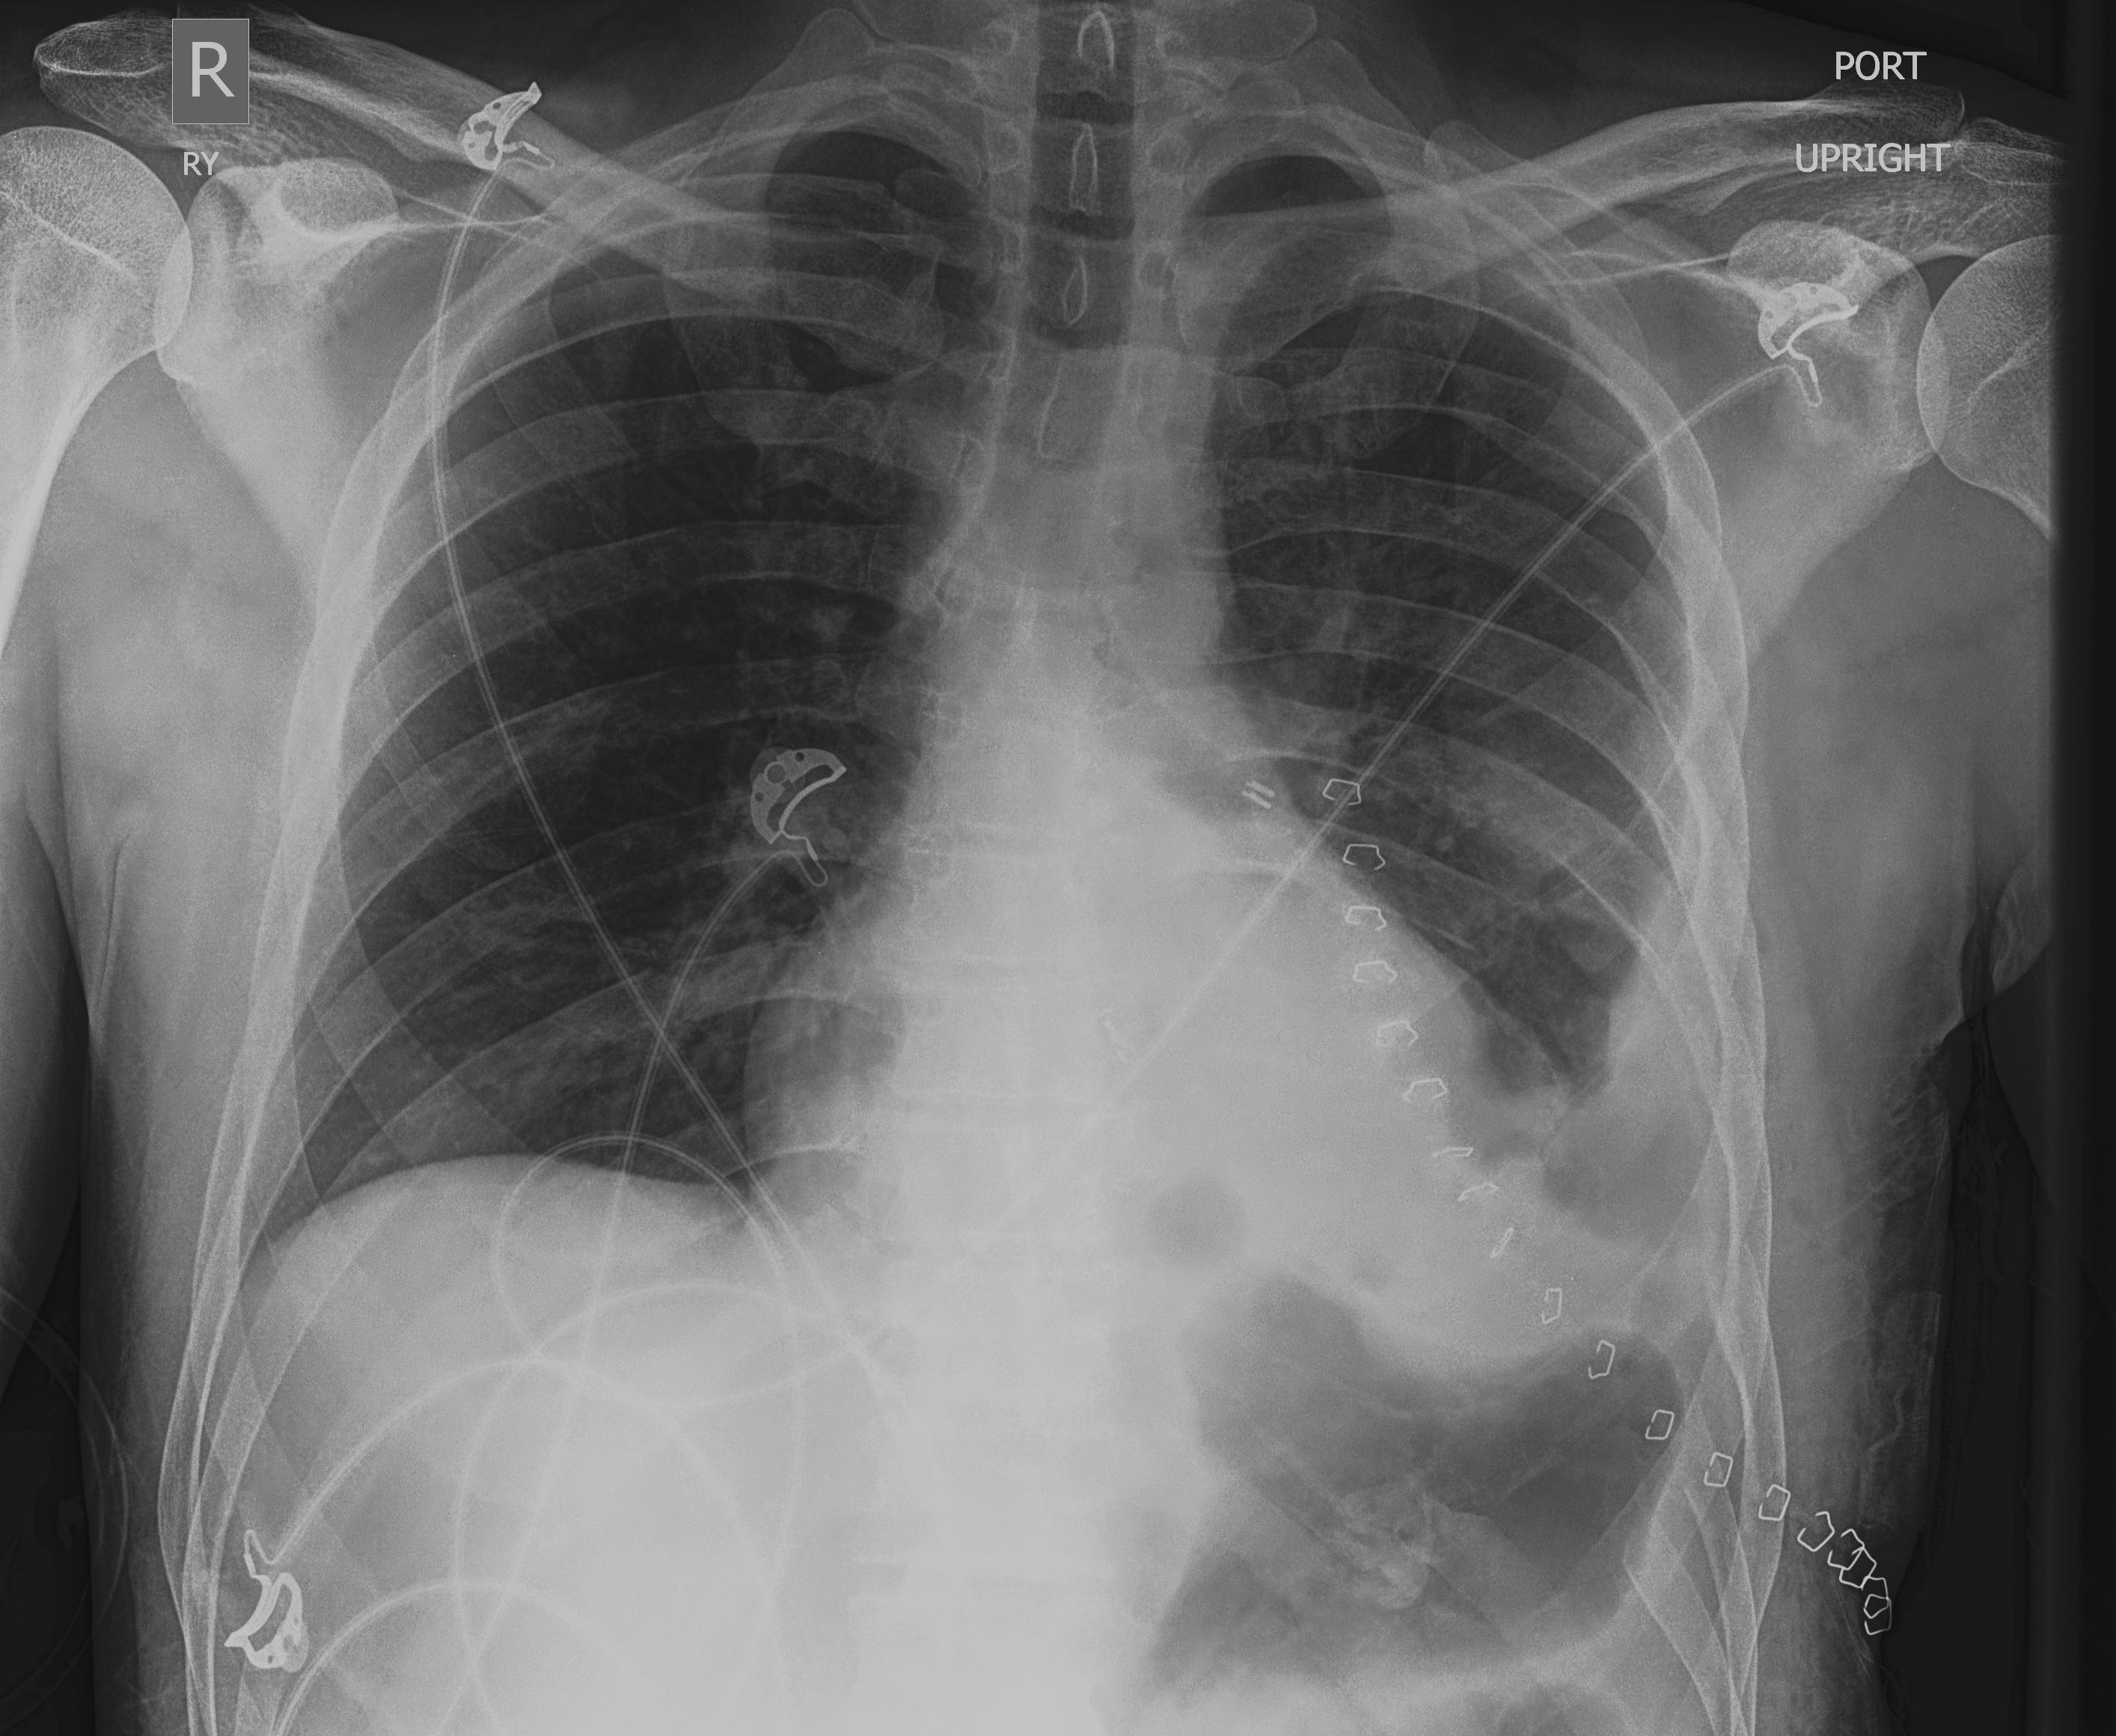Pleural Effusion: (1424, 1023, 1801, 1539)
